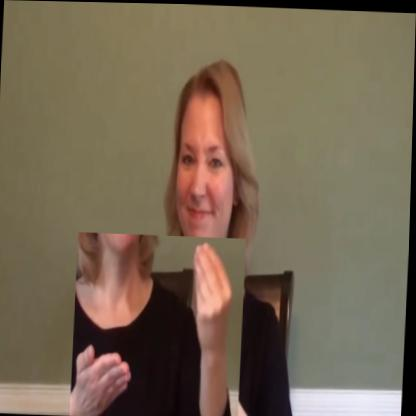Expensive: (71, 231, 247, 416)
